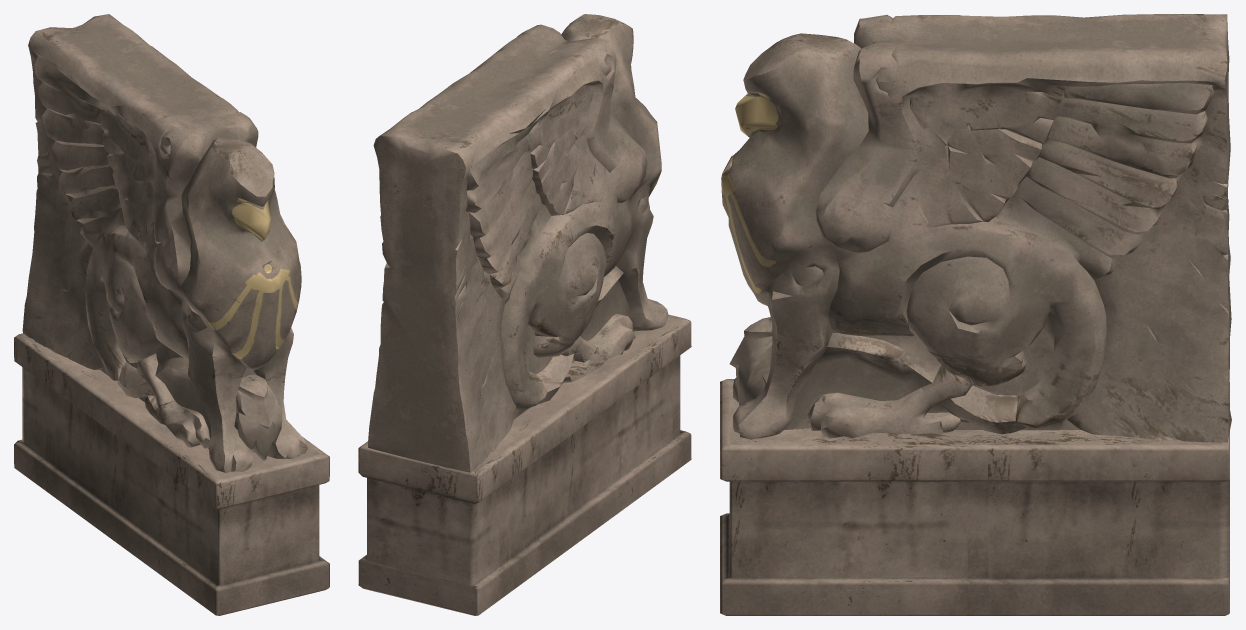
Rendered from griffon.gltf.
The picture shows the model from 3 angles, left to right: view 1: azimuth 30°, elevation 25°; view 2: azimuth 150°, elevation 25°; view 3: azimuth 270°, elevation 25°; orthographic projection. The views are drawn at different scales.
Parts seen in each view (by area): view 1: greif_statue; view 2: greif_statue; view 3: greif_statue.
Boxes of the visible parts, left/top/right/bottom form: greif_statue: left=14, top=14, right=329, bottom=615; greif_statue: left=358, top=14, right=691, bottom=615; greif_statue: left=720, top=14, right=1231, bottom=615.
Bounding box in the file's own units: 0.0218 × 0.0729 × 0.0617.
2 materials, 2 textured.
